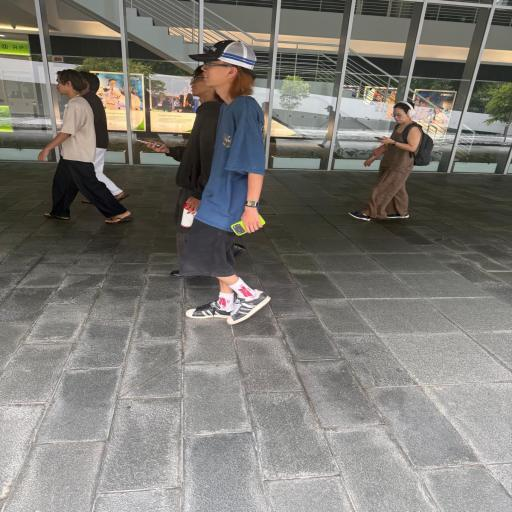person_left: (176, 40, 271, 326), (146, 64, 224, 278), (38, 69, 132, 224), (348, 101, 434, 222), (73, 71, 129, 204)
